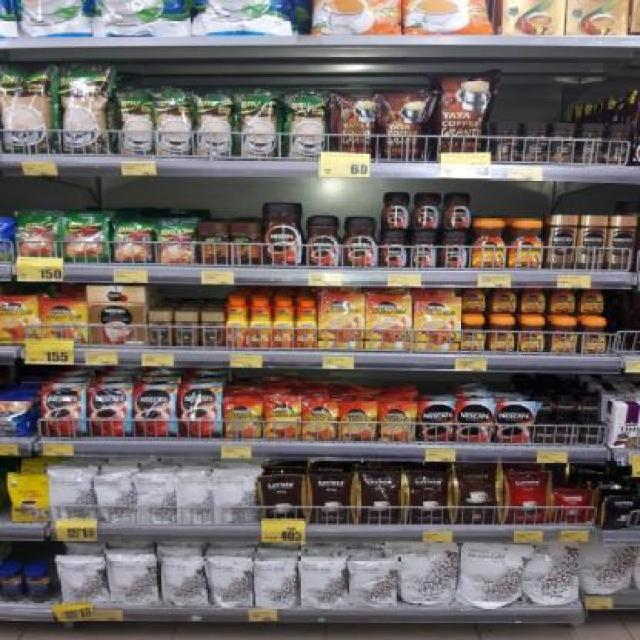Coffee: (262, 203, 304, 266), (367, 295, 412, 350), (41, 383, 87, 436), (415, 298, 460, 350), (178, 385, 222, 438), (321, 294, 364, 348), (134, 386, 177, 437), (89, 386, 132, 436), (41, 299, 87, 345), (304, 217, 342, 268), (343, 218, 380, 269), (471, 219, 506, 268), (507, 220, 542, 268), (456, 401, 494, 445), (1, 297, 36, 344), (495, 404, 534, 445), (224, 398, 262, 440), (378, 403, 417, 442), (264, 398, 301, 439), (339, 401, 376, 441), (549, 216, 576, 270), (302, 401, 339, 440), (579, 217, 606, 270), (609, 216, 636, 268), (419, 402, 455, 441), (380, 192, 412, 230), (439, 231, 470, 267), (272, 299, 294, 349), (379, 231, 409, 267), (249, 298, 270, 349), (413, 193, 442, 229), (410, 231, 438, 268), (443, 193, 472, 228), (296, 298, 316, 348), (550, 319, 578, 353), (520, 318, 546, 354), (489, 319, 516, 353), (461, 318, 486, 352), (581, 319, 606, 353), (229, 299, 246, 348), (174, 312, 198, 346), (147, 311, 170, 346), (201, 313, 224, 346), (550, 289, 576, 313), (579, 291, 604, 314), (492, 290, 518, 312), (462, 289, 486, 312), (522, 289, 544, 313), (583, 426, 606, 444), (556, 396, 575, 413), (581, 397, 600, 414), (560, 425, 578, 442), (535, 427, 554, 443), (537, 398, 553, 414)
